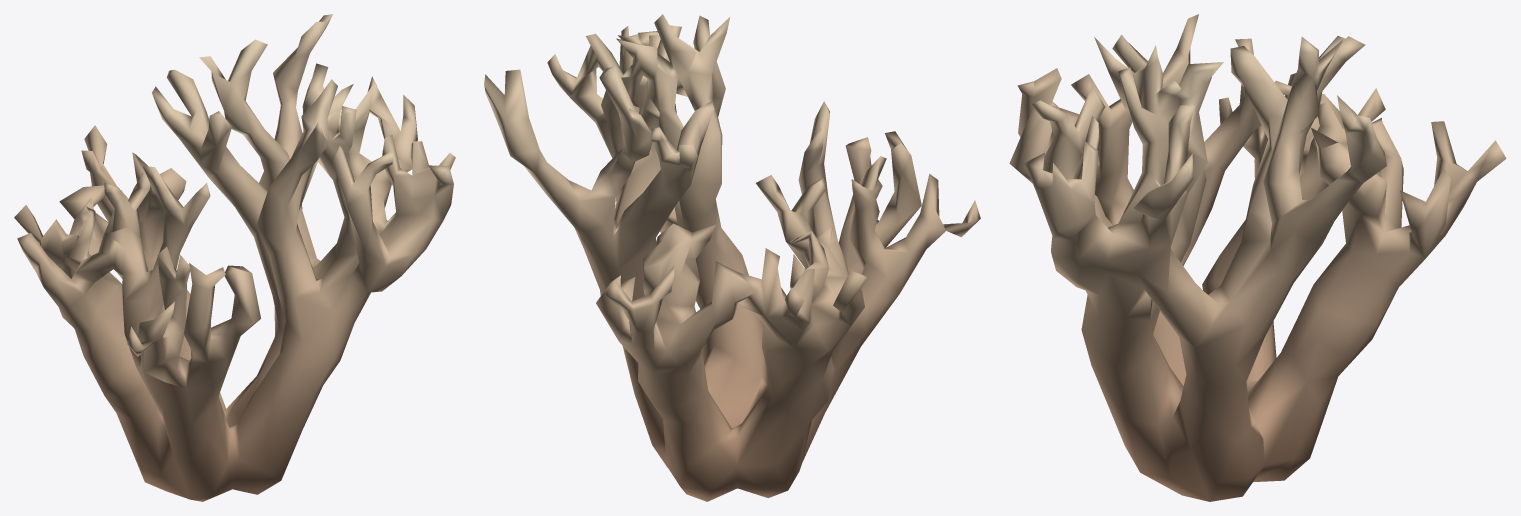
The model's file is staghorn_gold_low.glb.
The picture shows the model from 3 angles, left to right: view 1: azimuth 30°, elevation 25°; view 2: azimuth 150°, elevation 25°; view 3: azimuth 270°, elevation 25°; orthographic projection. The views are drawn at different scales.
Parts seen in each view (by area): view 1: world; view 2: world; view 3: world.
Boxes of the visible parts, x1=… form: world: x1=14, y1=14, x2=455, y2=501; world: x1=484, y1=14, x2=980, y2=501; world: x1=1009, y1=14, x2=1506, y2=501.
Size of the model in its own units: 1.08 by 1.2 by 1.11.
